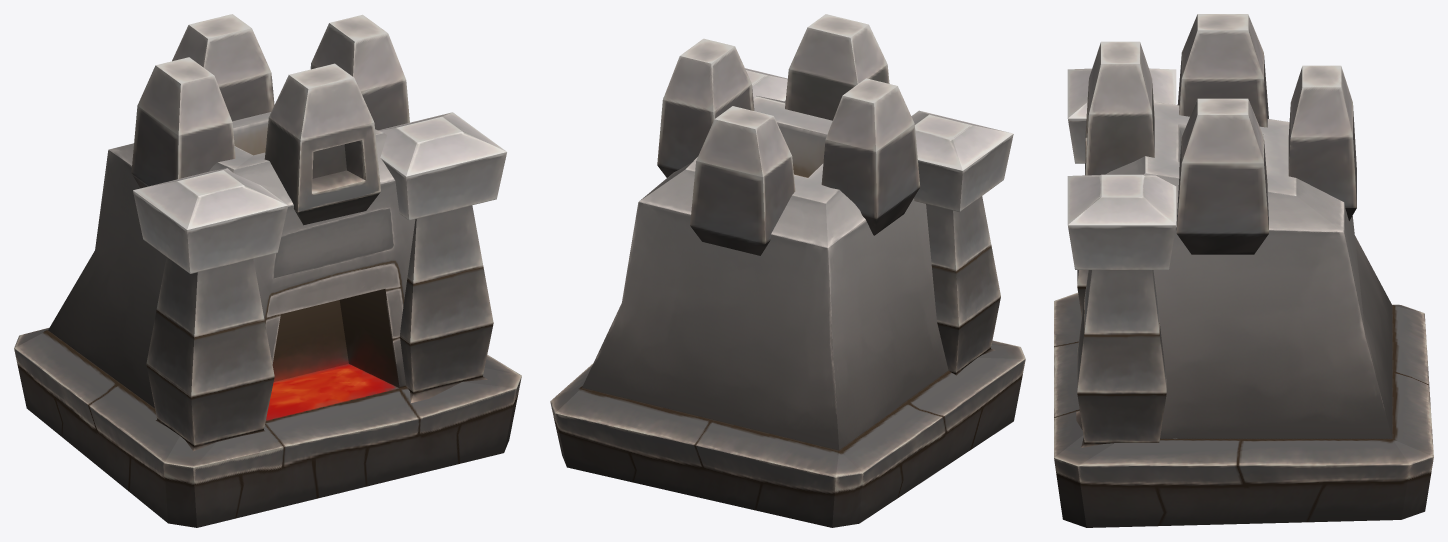
Rendered from Dwarf_Village_Props_03.FBX.
The picture shows the model from 3 angles, left to right: view 1: azimuth 30°, elevation 25°; view 2: azimuth 150°, elevation 25°; view 3: azimuth 270°, elevation 25°; orthographic projection. The views are drawn at different scales.
Visible parts, largest first — view 1: Dwarf_Village_Props_03; view 2: Dwarf_Village_Props_03; view 3: Dwarf_Village_Props_03.
Boxes of the visible parts, x1,y1,x2,y2 form: Dwarf_Village_Props_03: (14,14,521,527); Dwarf_Village_Props_03: (550,14,1025,527); Dwarf_Village_Props_03: (1054,14,1433,527).
Size of the model in its own units: 404 by 424 by 372.
